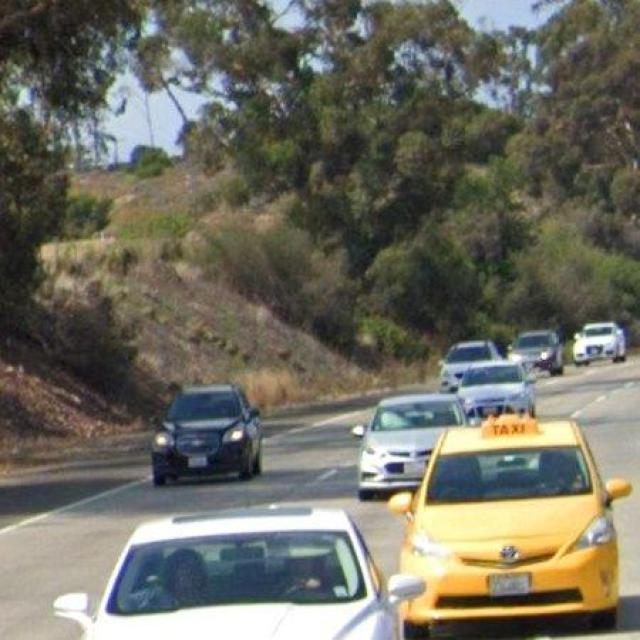Taxi: (390, 415, 634, 640)
